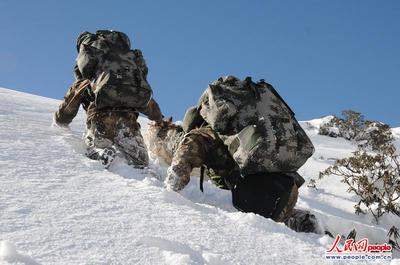fall: (141, 66, 345, 248)
